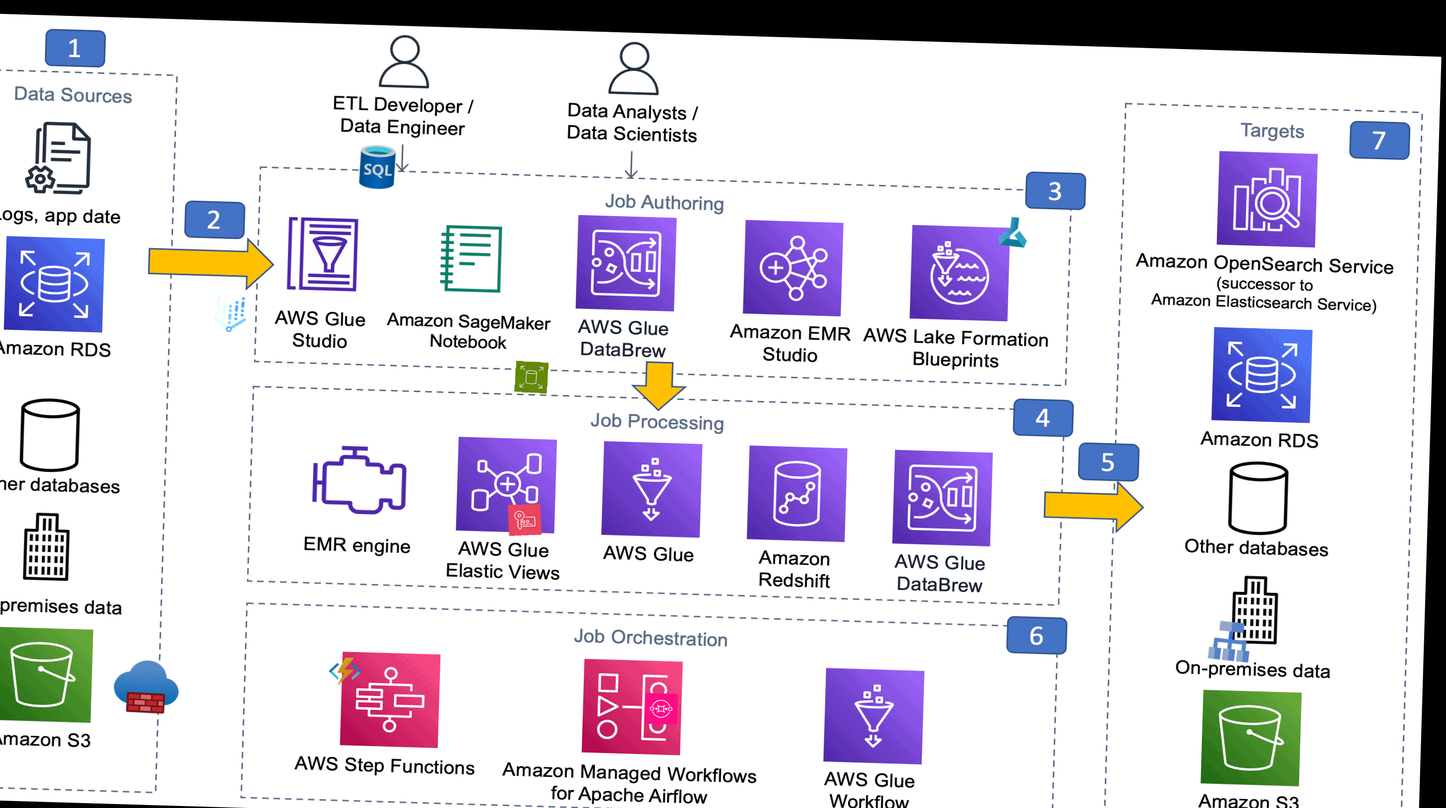aws_amazon_elastic_block_store: (514, 360, 548, 394)
aws_amazon_simple_queue_service: (644, 692, 678, 725)
aws_key_management_service: (506, 502, 542, 537)
azure_firewalls: (112, 654, 181, 719)
azure_function_apps: (328, 655, 362, 688)
azure_machine_learning: (995, 214, 1031, 249)
azure_sql_database: (351, 142, 403, 192)
gcp_cloud_load_balancing: (1203, 615, 1257, 667)
gcp_vertex_ai: (203, 289, 256, 339)
